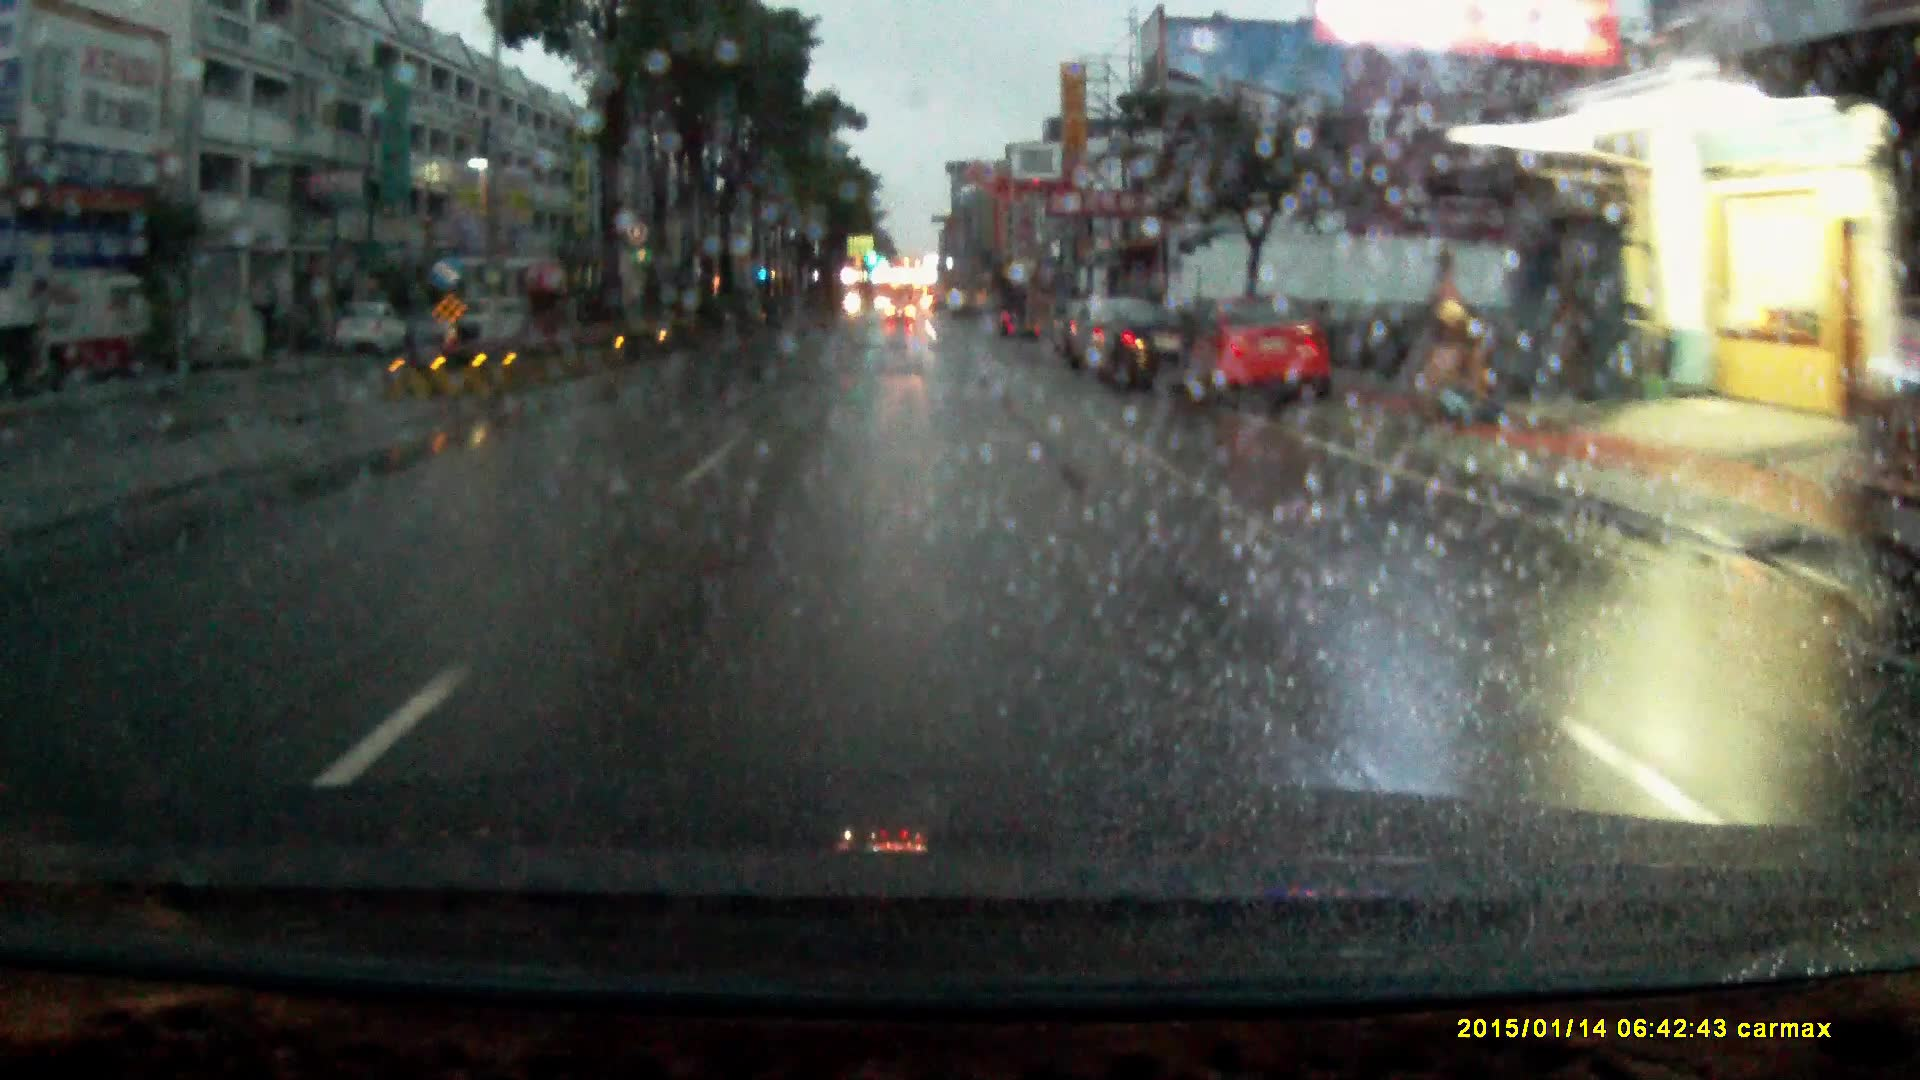vehicle: (1178, 301, 1331, 411), (1087, 301, 1197, 397), (1067, 299, 1146, 375), (440, 295, 537, 340), (334, 301, 410, 356), (1006, 291, 1048, 344), (885, 301, 918, 328)
